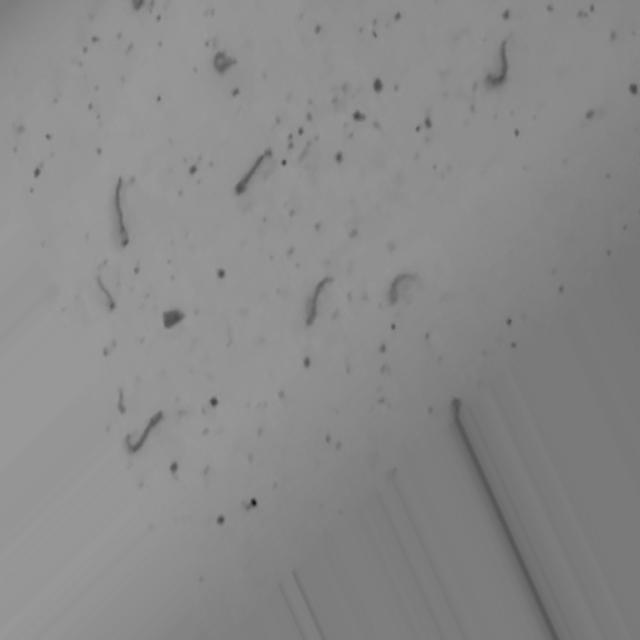larvas: (127, 409, 164, 454), (233, 149, 266, 195), (485, 38, 513, 87), (113, 176, 131, 249), (305, 274, 330, 326), (388, 271, 415, 305), (98, 274, 120, 310), (213, 52, 238, 76)
